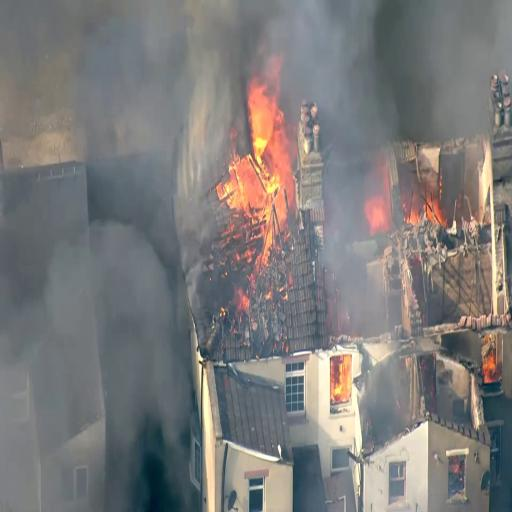fire: (221, 63, 307, 239)
smoke: (343, 0, 504, 134)
